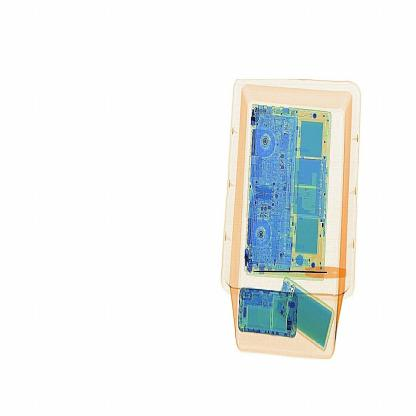wrench: (255, 256, 345, 279)
